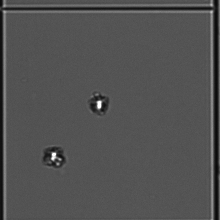Living Cell: (39, 141, 75, 184), (82, 86, 112, 121)
